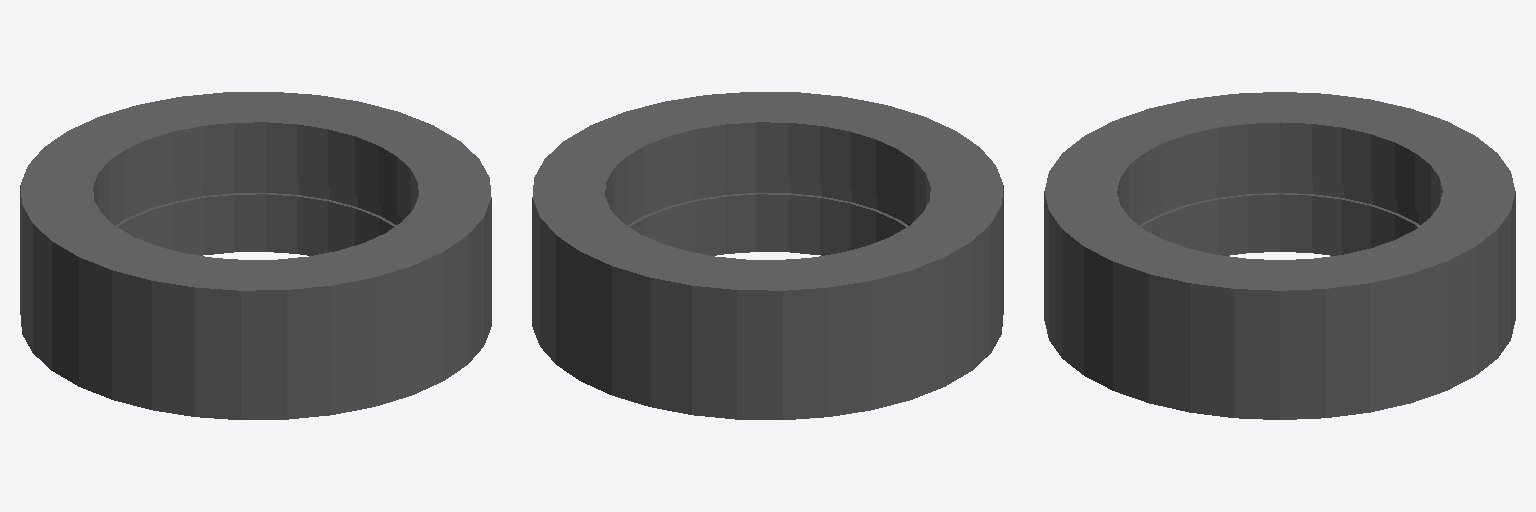
robot.urdf — bearing:
<?xml version="1.0" ?>
<robot name="bearing">
  <link name="base_link">
    <inertial>
      <!-- <origin rpy="0 0.0 0.0" xyz="0 0.1 -0.2"/>s -->
      <mass value="0.005"/>
      <inertia ixx="0.000001" ixy="0.0" ixz="0.0" iyy="0.000001" iyz="0.0" izz="0.000001"/>
    </inertial>
    <visual>
      <!-- <origin rpy="0 0.0 0.0" xyz="0 0.1 -0.2"/> -->
      <geometry>
        <mesh filename="package://demo_world/meshes/bearing.dae" scale="0.25 0.25 0.25"/>
      </geometry>
    </visual>
    <collision>
      <!-- <origin rpy="0 0.0 0.0" xyz="0 0.1 -0.2"/> -->
      <geometry>
        <mesh filename="package://demo_world/meshes/bearing.dae" scale="0.25 0.25 0.25"/>
      </geometry>
    </collision>
  </link>
</robot>

--- What the picture shows (computed from the rendered views, not written in the file) ---
3 views of the same robot in one strip: view 1: azimuth 30°, elevation 25°; view 2: azimuth 150°, elevation 25°; view 3: azimuth 270°, elevation 25° (orthographic).
Robot: bearing — 1 links, 0 joints (none); root link base_link; default pose: all joints at 0.
Links seen in each view (by area): view 1: base_link; view 2: base_link; view 3: base_link.
Link boxes in pixels (x1,y1,x2,y2): base_link: (20,92,491,419); base_link: (532,92,1003,419); base_link: (1044,92,1515,419).
Size in the robot's own frame: 0.0371 by 0.0371 by 0.0113 metres.
Meshes: 1 distinct files referenced, 1 mesh visuals loaded (1 Collada DAE).